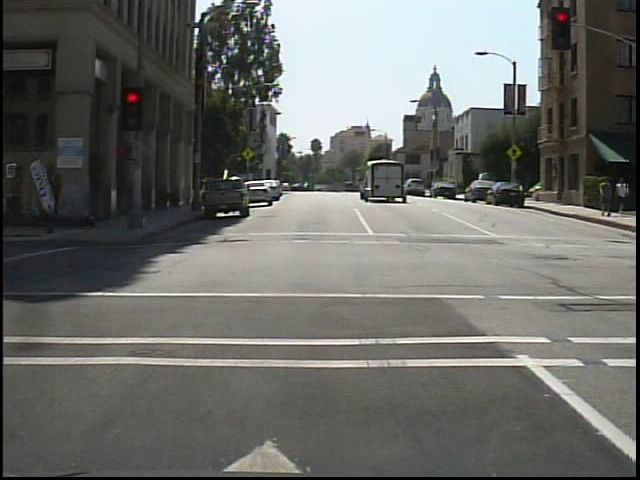person: (38, 165, 79, 236), (596, 175, 616, 220), (614, 175, 630, 218)
